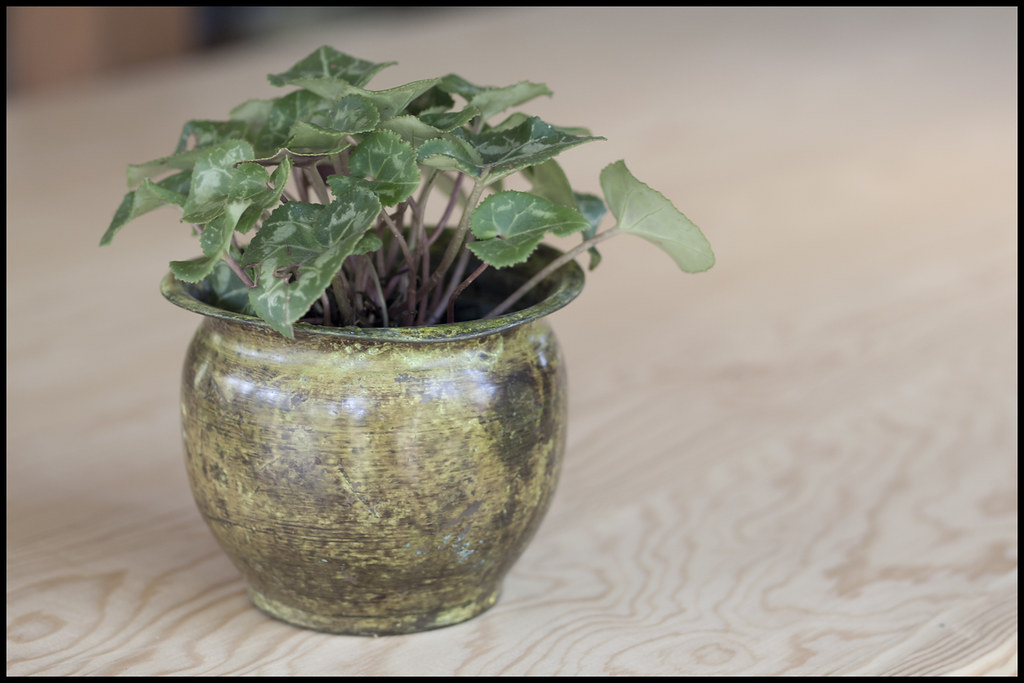potted plant: (144, 50, 619, 646)
